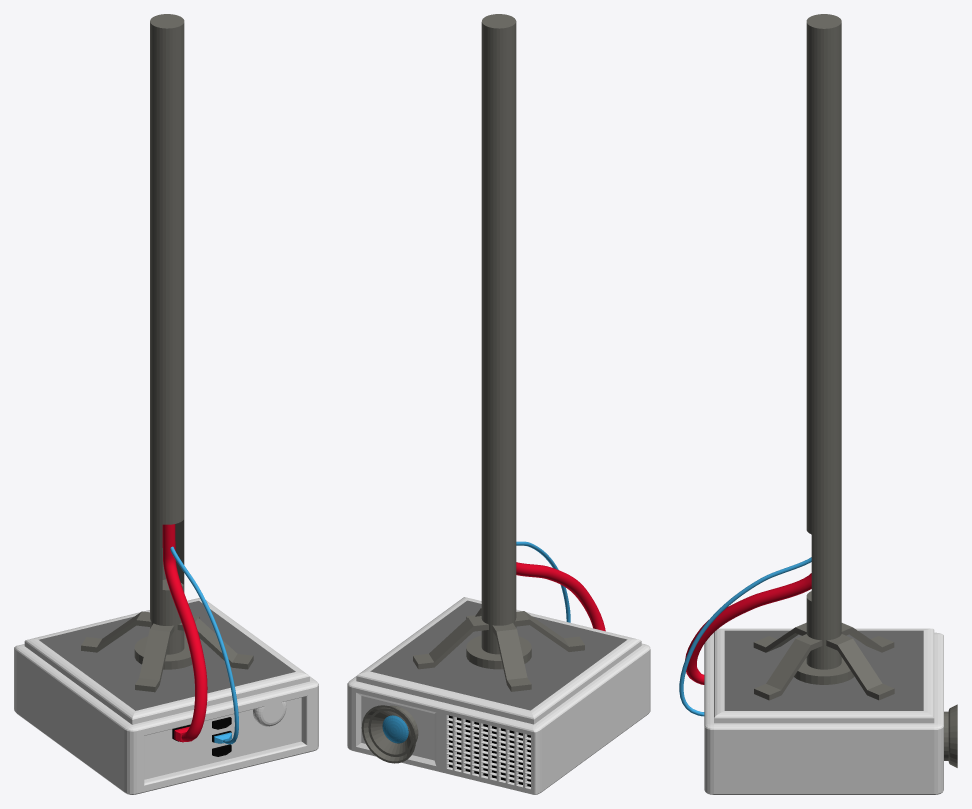
File: L_projection.glb
The picture shows the model from 3 angles, left to right: view 1: azimuth 30°, elevation 25°; view 2: azimuth 150°, elevation 25°; view 3: azimuth 270°, elevation 25°; orthographic projection. The views are drawn at different scales.
Parts seen in each view (by area): view 1: Cube.034, Cylinder.011, BezierCurve.007, Cube.039, BezierCurve.006, Cube.040, Cube.042, Cylinder.009; view 2: Cube.034, Cylinder.011, Cylinder.010, Cube.042, BezierCurve.007, Cube.041, Cube.039, Sphere; view 3: Cube.034, Cylinder.011, BezierCurve.007, Cube.041, Cube.040, BezierCurve.006, Cylinder.010, Cube.039, Cube.042.
Boxes of the visible parts, x1,y1,x2,y2 form: Cube.034: (14,597,318,794); Cylinder.011: (134,14,192,669); BezierCurve.007: (162,524,207,741); Cube.039: (135,623,174,692); BezierCurve.006: (170,546,238,744); Cube.040: (177,617,253,669); Cube.042: (81,611,151,652); Cylinder.009: (253,693,286,726); Cube.034: (347,597,650,794); Cylinder.011: (466,14,531,669); Cylinder.010: (361,705,418,763); Cube.042: (492,623,531,691); BezierCurve.007: (516,562,605,631); Cube.041: (413,616,488,669); Cube.039: (515,611,584,651); Sphere: (382,715,408,743); Cube.034: (704,628,943,794); Cylinder.011: (794,14,854,684); BezierCurve.007: (685,573,811,684); Cube.041: (826,634,894,700); Cube.040: (754,634,822,700); BezierCurve.006: (679,557,811,716); Cylinder.010: (944,704,957,767); Cube.039: (753,622,806,652); Cube.042: (841,623,894,652).
Size of the model in its own units: 21 by 73.81 by 25.61.
